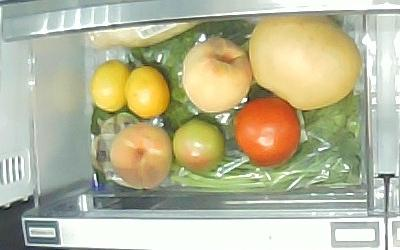peach: (181, 36, 252, 115), (109, 124, 173, 191)
pear: (249, 13, 362, 110)
tangerine: (126, 66, 170, 120), (90, 60, 128, 112)
tomato: (232, 96, 302, 168), (173, 119, 226, 174)
